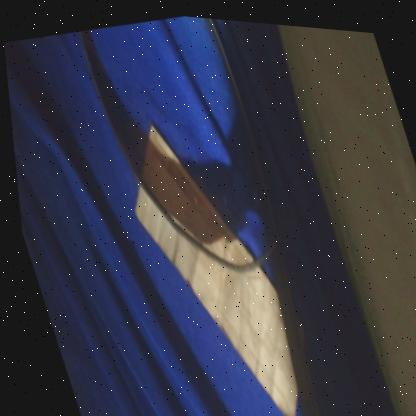five-back-vef: (104, 102, 313, 416)
